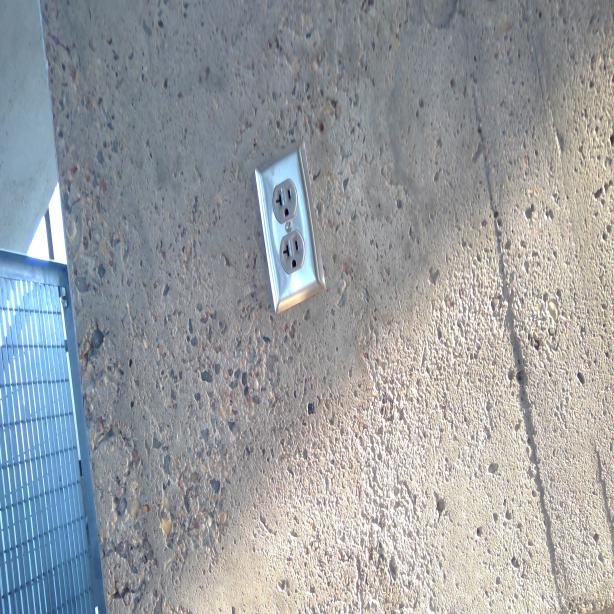typeb: (278, 234, 304, 274), (273, 182, 295, 220)
